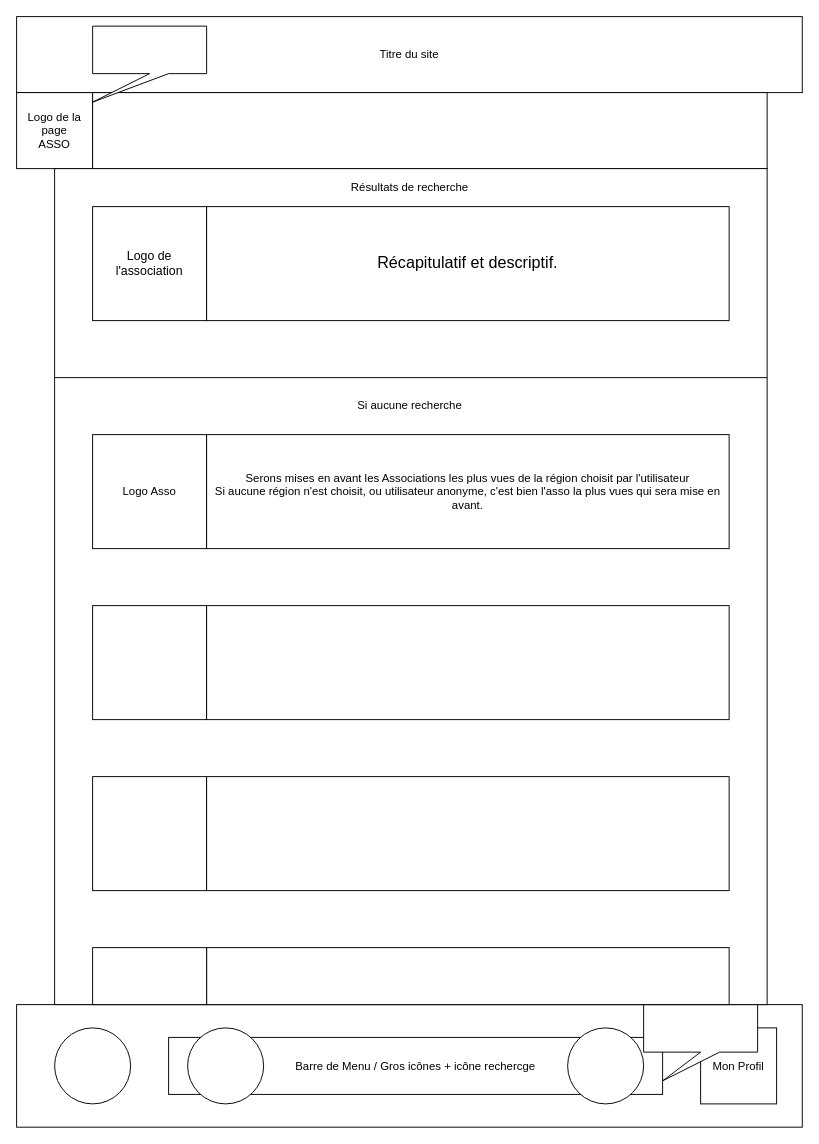
Some shapes in this 819 by 1144 pixel diagram are drawn without their labels. The shapes that lost their labels are listed below. From the top down, each one's centre as x and y in pixels, then its label:
the point at 149,63: Logo toujours apparent
the point at 429,130: Barre de filtre
the point at 700,1042: Barre toujours apparente
the point at 92,1065: Logo
